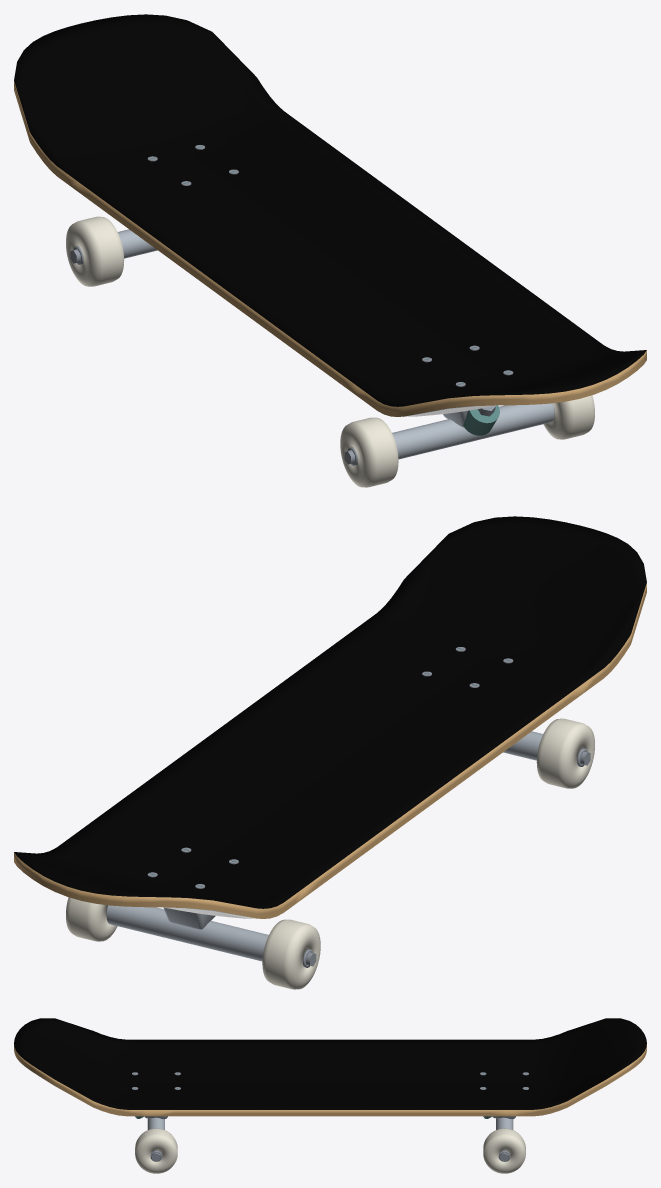
File: preview.glb
The picture shows the model from 3 angles, top to bottom: view 1: azimuth 30°, elevation 25°; view 2: azimuth 150°, elevation 25°; view 3: azimuth 270°, elevation 25°; orthographic projection. The views are drawn at different scales.
Visible parts, largest first — view 1: Skateboard; view 2: Skateboard; view 3: Skateboard.
Boxes of the visible parts, x1,y1,x2,y2 form: Skateboard: [14, 14, 646, 487]; Skateboard: [14, 516, 646, 989]; Skateboard: [14, 1018, 646, 1173].
Bounding box in the file's own units: 0.222 × 0.1362 × 0.8.
